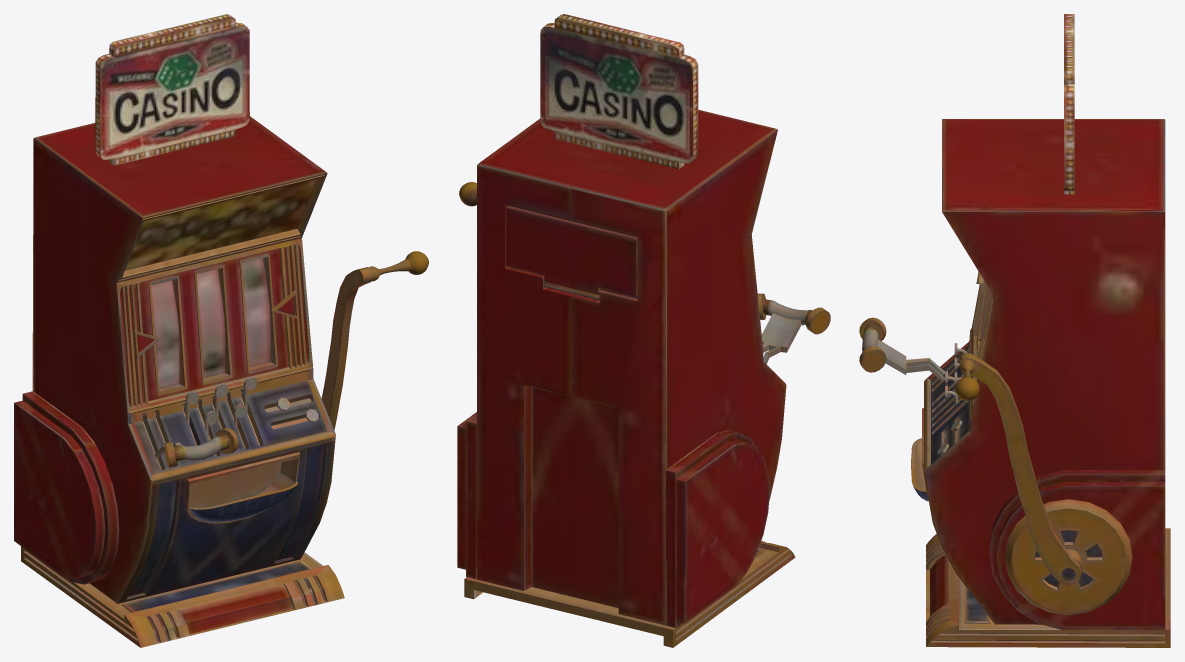
Rendered from slot-machine--2.gltf.
3 renders of one model, left to right at view 1: azimuth 30°, elevation 25°; view 2: azimuth 150°, elevation 25°; view 3: azimuth 270°, elevation 25°, orthographic. The views are drawn at different scales.
Visible parts, largest first — view 1: casino; view 2: casino; view 3: casino.
Part boxes in pixels (left/top/right/bottom): casino: left=14, top=14, right=428, bottom=647; casino: left=457, top=14, right=830, bottom=647; casino: left=859, top=14, right=1170, bottom=647.
Bounding box in the file's own units: 1.1 × 1.8 × 0.9155.
1 material, 1 textured.
